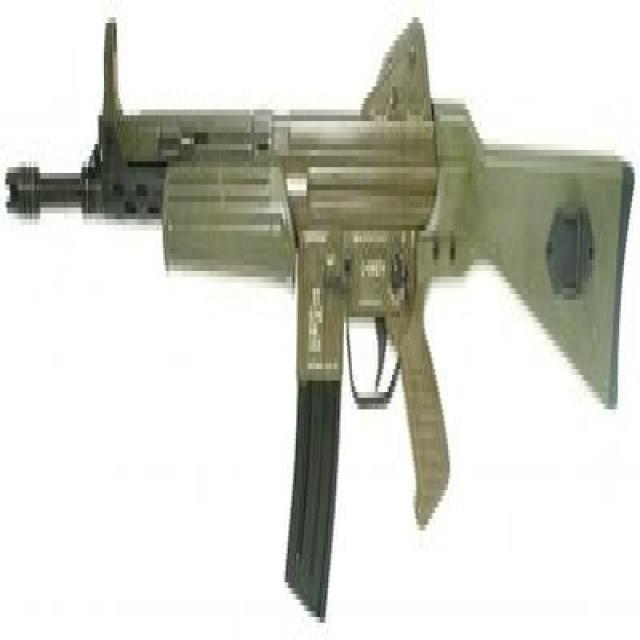rifle: (3, 1, 637, 640)
